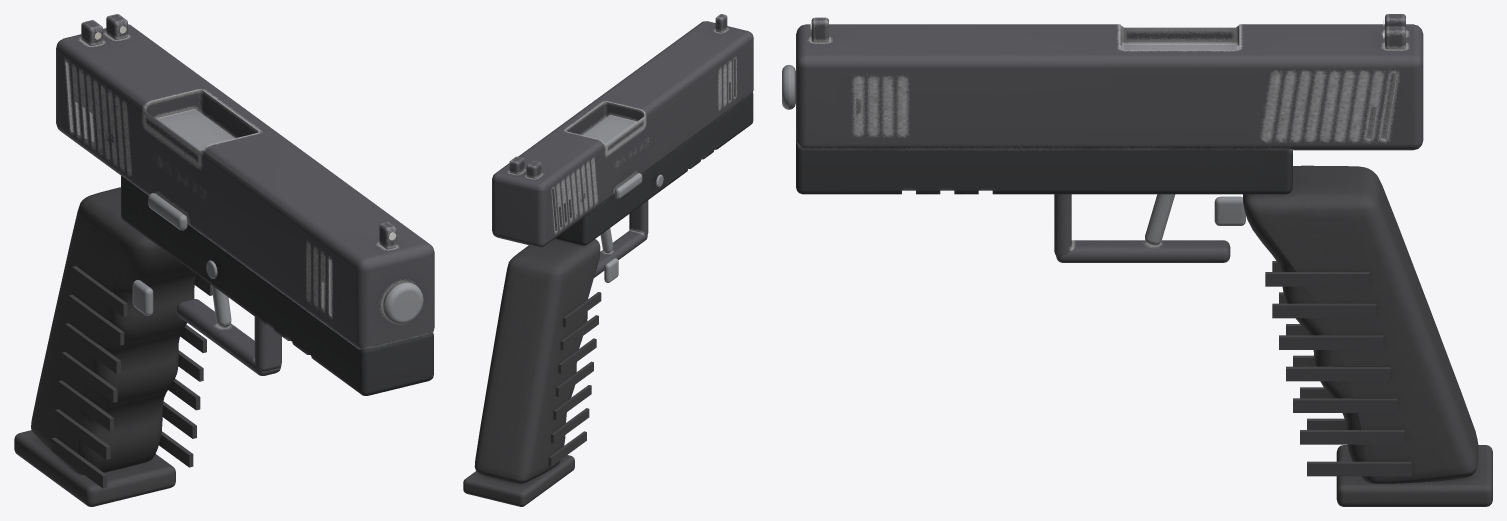
The model's file is glock.fbx.
3 views of the same model, side by side, from view 1: azimuth 30°, elevation 25°; view 2: azimuth 150°, elevation 25°; view 3: azimuth 270°, elevation 25° (orthographic). The views are drawn at different scales.
Parts seen in each view (by area): view 1: glock; view 2: glock; view 3: glock.
Boxes of the visible parts, x1,y1,x2,y2 form: glock: (14, 14, 434, 506); glock: (463, 14, 753, 506); glock: (782, 14, 1492, 506).
Size of the model in its own units: 0.0311 by 0.148 by 0.2039.
